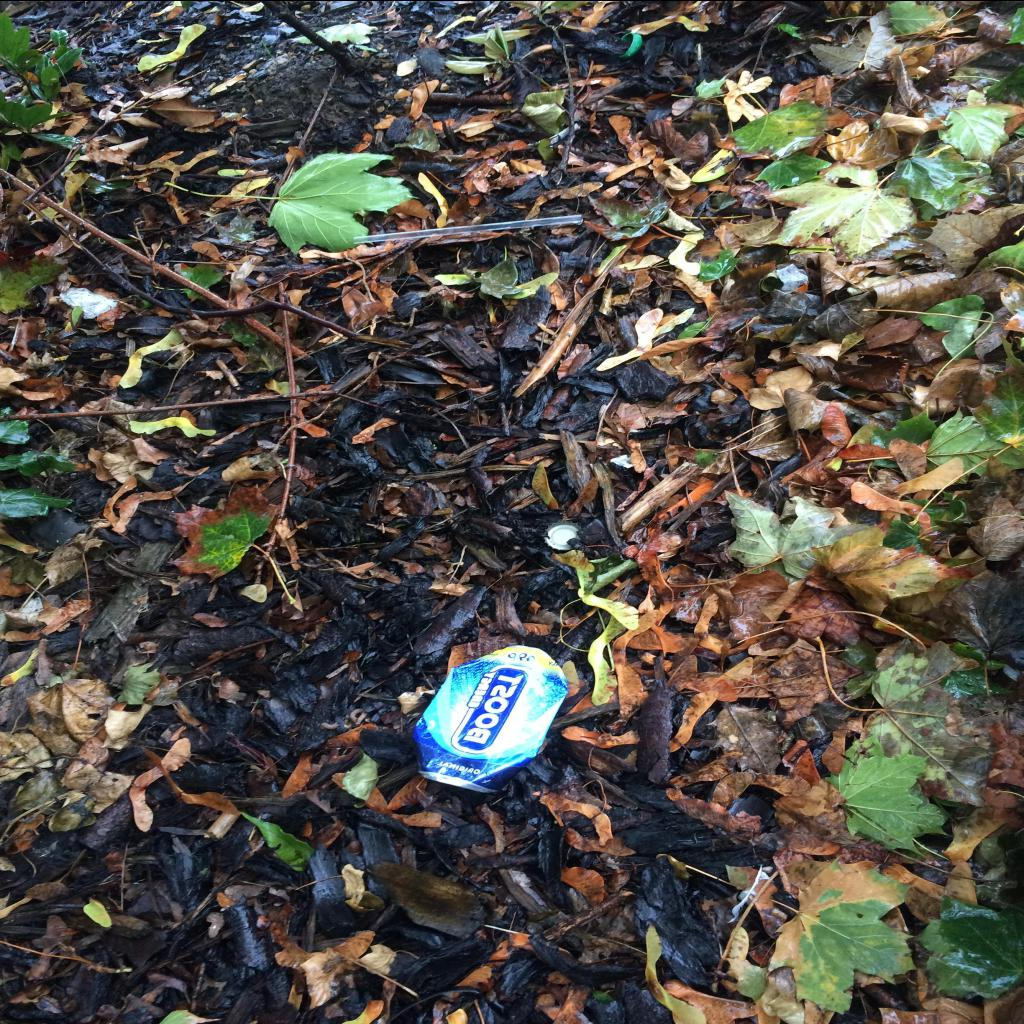Drink can: (413, 644, 569, 792)
Metal bottle cap: (544, 520, 582, 549)
Plastic straw: (354, 213, 583, 243)
